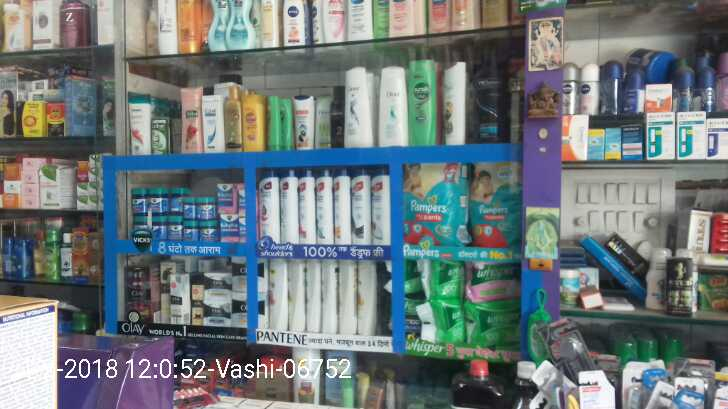beauty: (352, 166, 373, 245), (359, 259, 378, 338), (280, 170, 300, 245), (314, 172, 334, 247), (338, 259, 356, 341), (335, 172, 355, 245), (260, 174, 280, 244), (304, 261, 323, 333), (373, 173, 391, 246), (269, 261, 288, 330), (287, 263, 305, 331), (166, 274, 188, 324), (323, 262, 338, 333), (127, 286, 153, 324), (202, 301, 235, 329), (202, 272, 233, 301), (303, 176, 316, 244)
pharmacy: (400, 161, 470, 245), (468, 165, 524, 252), (466, 301, 525, 347), (467, 265, 520, 303), (424, 260, 466, 304), (170, 182, 193, 219), (211, 220, 241, 245), (211, 183, 234, 215), (144, 183, 165, 215), (129, 187, 146, 215), (198, 218, 217, 243), (198, 194, 215, 219), (182, 221, 199, 243)
